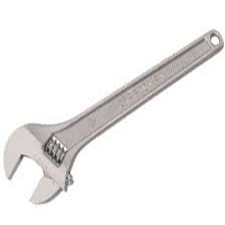wrench: (3, 33, 225, 207)
